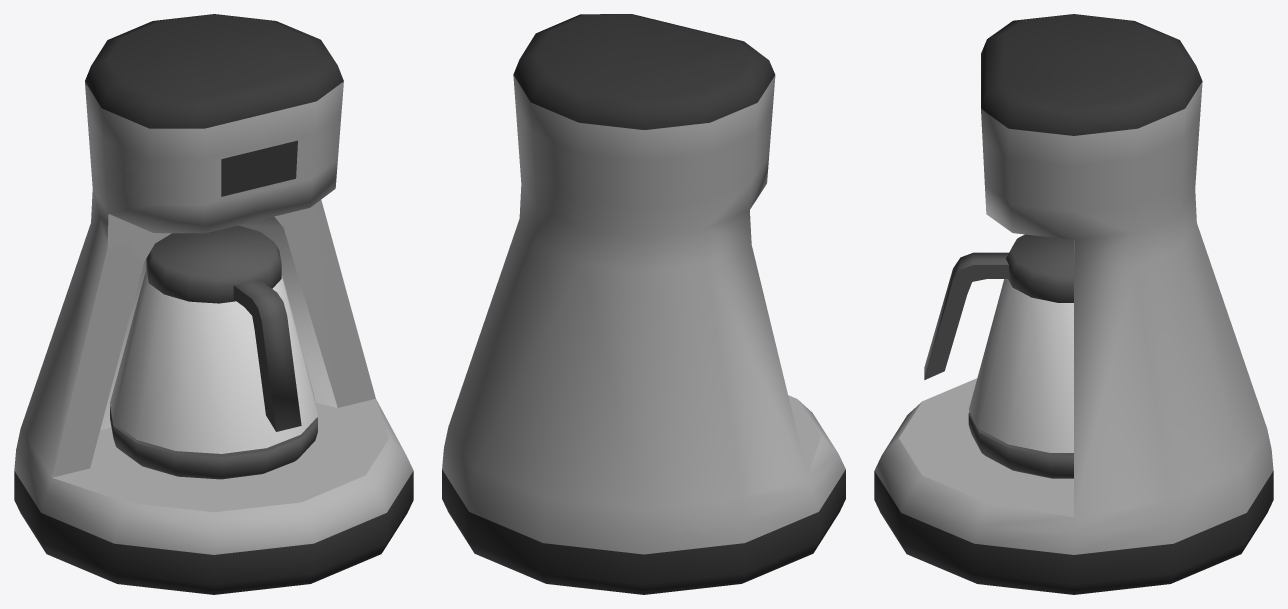
Rendered from coffee_machine.glb.
3 renders of one model, left to right at view 1: azimuth 30°, elevation 25°; view 2: azimuth 150°, elevation 25°; view 3: azimuth 270°, elevation 25°, orthographic.
Visible parts, largest first — view 1: Coffee Machine, Simple Coffee (Glass), Simple Coffee (Handle); view 2: Coffee Machine; view 3: Coffee Machine, Simple Coffee (Glass), Simple Coffee (Handle).
Part boxes in pixels (<box>): Coffee Machine: <box>14,14,413,594</box>; Simple Coffee (Glass): <box>110,271,317,453</box>; Simple Coffee (Handle): <box>110,225,317,479</box>; Coffee Machine: <box>442,14,845,594</box>; Coffee Machine: <box>874,14,1273,594</box>; Simple Coffee (Glass): <box>969,279,1073,452</box>; Simple Coffee (Handle): <box>924,234,1073,478</box>.
Bounding box in the file's own units: 0.2884 × 0.3658 × 0.2884.
3 materials, 3 textured.
